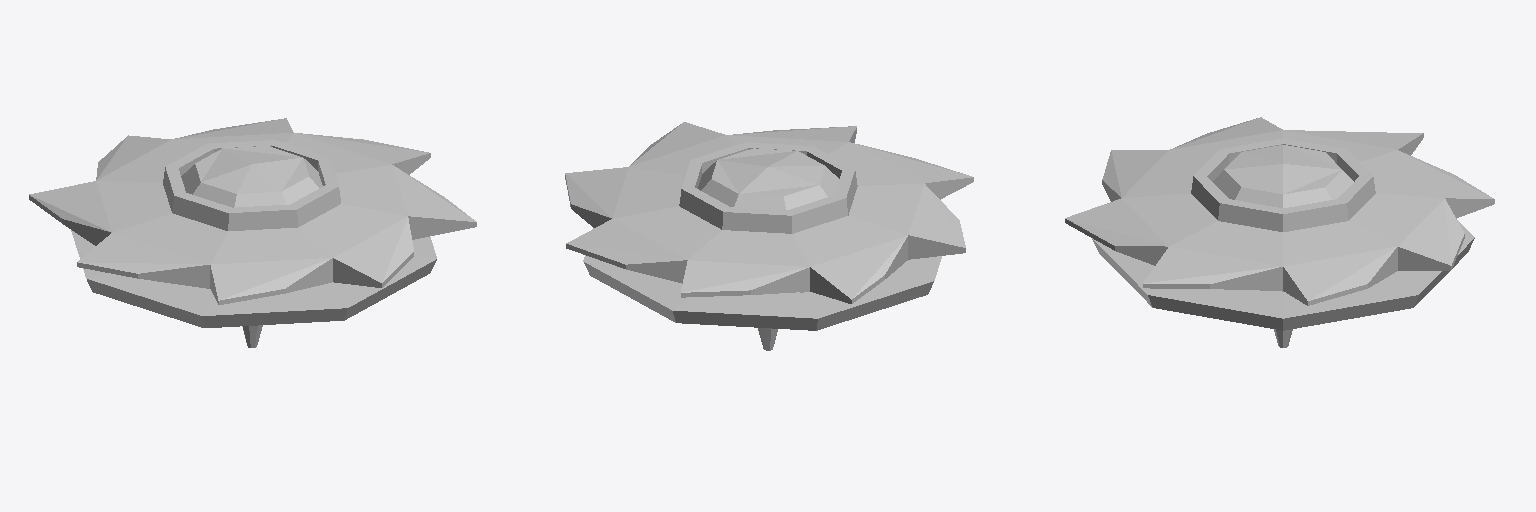
File: simplebeyblade.obj
3 views of the same model, side by side, from view 1: azimuth 30°, elevation 25°; view 2: azimuth 150°, elevation 25°; view 3: azimuth 270°, elevation 25° (orthographic).
Visible parts, largest first — view 1: Cube_Cube.001; view 2: Cube_Cube.001; view 3: Cube_Cube.001.
Part boxes in pixels (x1,y1,x2,y2): Cube_Cube.001: (29,118,476,347); Cube_Cube.001: (565,122,973,350); Cube_Cube.001: (1065,117,1494,347).
Bounding box in the file's own units: 2.7 × 1.24 × 2.66.